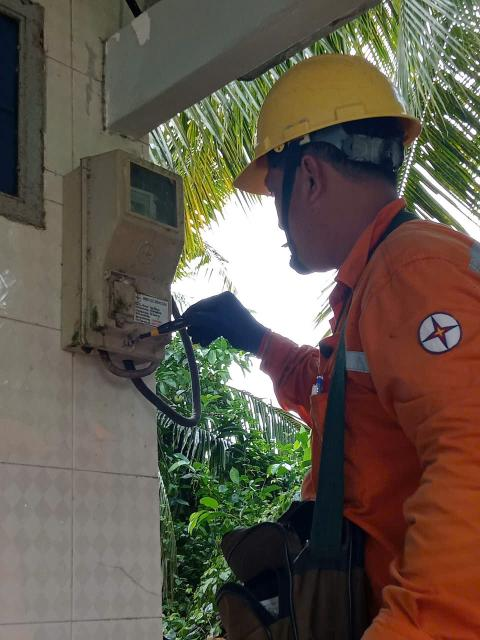gloves: (144, 278, 298, 380)
helmet: (207, 48, 448, 187)
